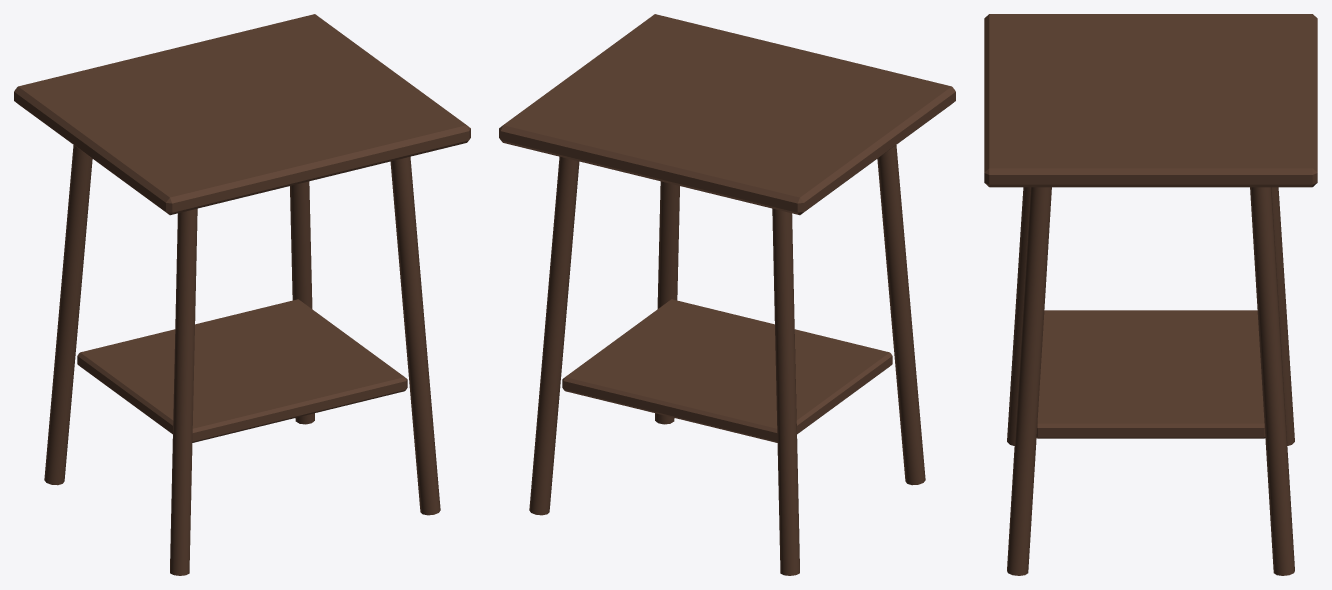
The model's file is i_table_15.glb.
3 renders of one model, left to right at view 1: azimuth 30°, elevation 25°; view 2: azimuth 150°, elevation 25°; view 3: azimuth 270°, elevation 25°, orthographic. The views are drawn at different scales.
Visible parts, largest first — view 1: o, o.005, o.003, o.001, o.002, o.004; view 2: o, o.005, o.004, o.002, o.001, o.003; view 3: o, o.005, o.003, o.004, o.001, o.002.
Part boxes in pixels (box(x1,y1,x2,y2)): o: box(14, 14, 470, 215); o.005: box(77, 299, 407, 442); o.003: box(390, 156, 440, 515); o.001: box(170, 208, 197, 575); o.002: box(44, 145, 92, 485); o.004: box(290, 181, 314, 424); o: box(499, 14, 955, 215); o.005: box(562, 299, 892, 442); o.004: box(529, 156, 579, 515); o.002: box(772, 208, 799, 575); o.001: box(877, 145, 925, 485); o.003: box(655, 181, 679, 424); o: box(984, 14, 1317, 187); o.005: box(1036, 310, 1265, 438); o.003: box(1007, 187, 1051, 575); o.004: box(1250, 187, 1294, 575); o.001: box(1007, 187, 1030, 445); o.002: box(1271, 187, 1294, 445).
Bounding box in the file's own units: 0.45 × 0.551 × 0.4.
